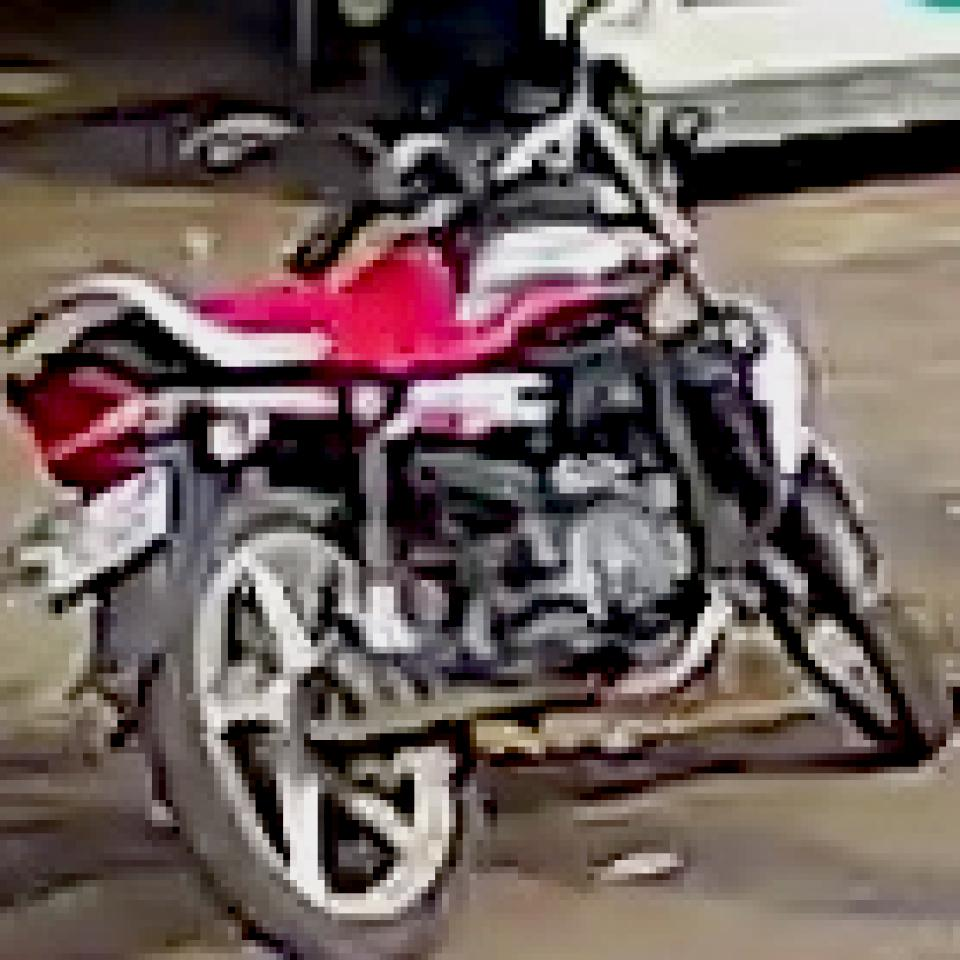tail_light: (24, 356, 147, 472)
